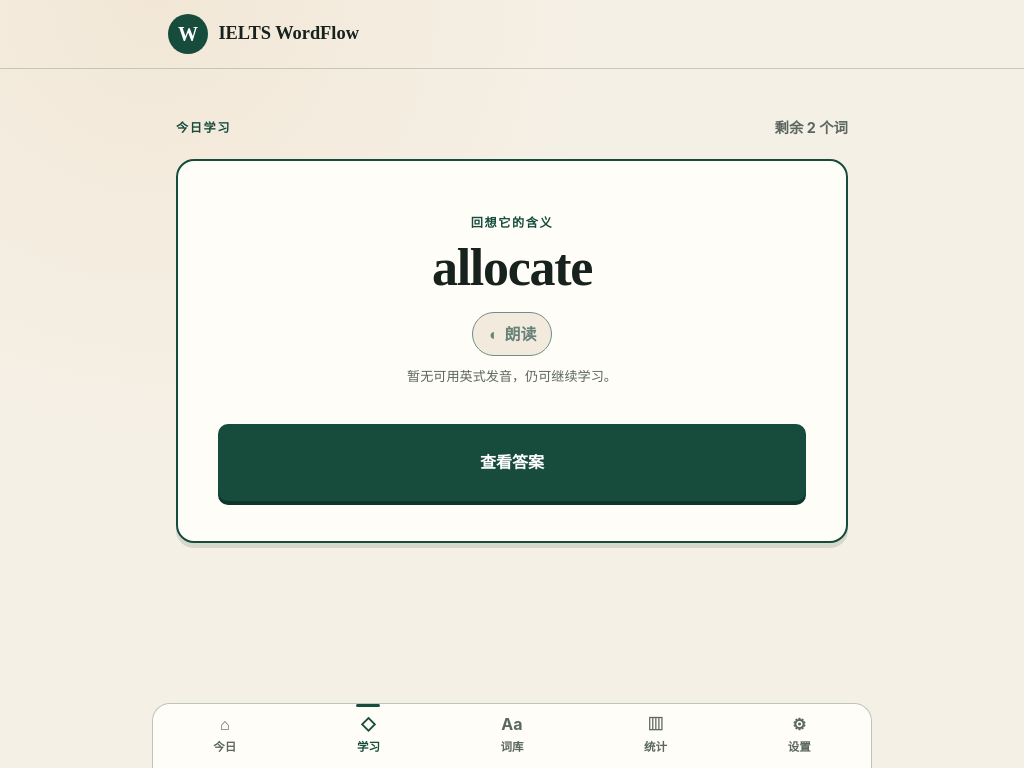
Test: StudyPage › keeps ratings absent until revealing every answer field
Expected: the heading "allocate" is shown, [432,238,592,298]
Expected: the button "不认识" is not shown
Click the button "查看答案": (512, 462) [218,424,806,501]
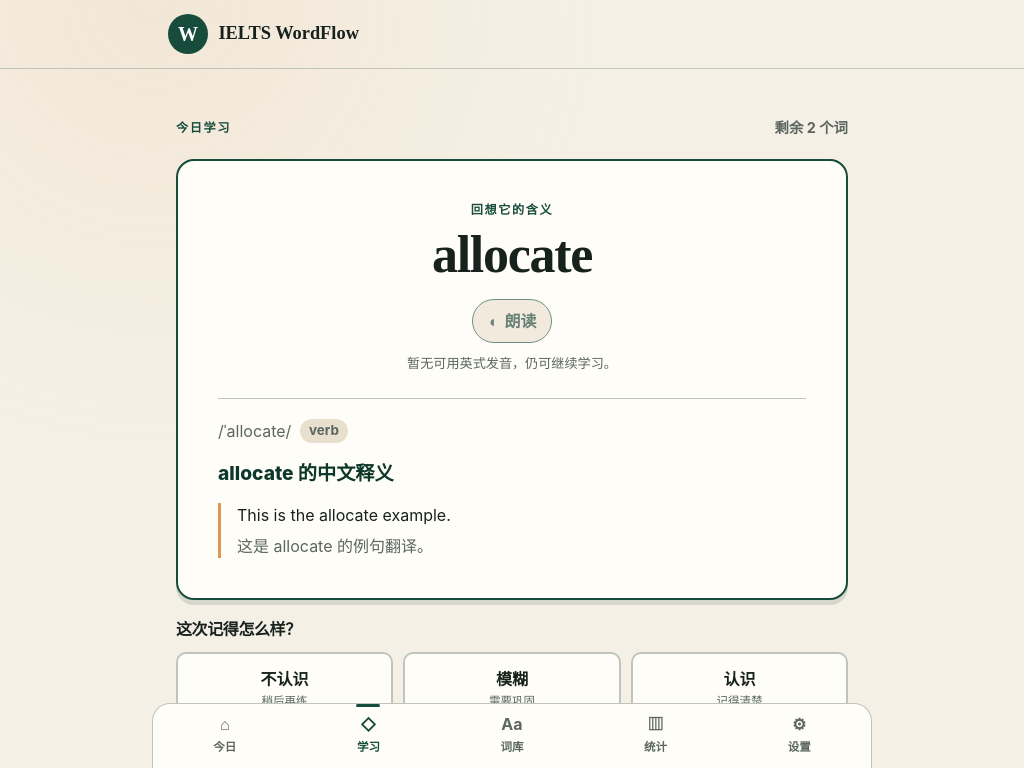
Expected: the text "/ˈallocate/" is shown, [218,418,291,442]
Expected: the text "verb" is shown, [300,418,348,442]
Expected: the text "allocate 的中文释义" is shown, [218,460,394,484]
